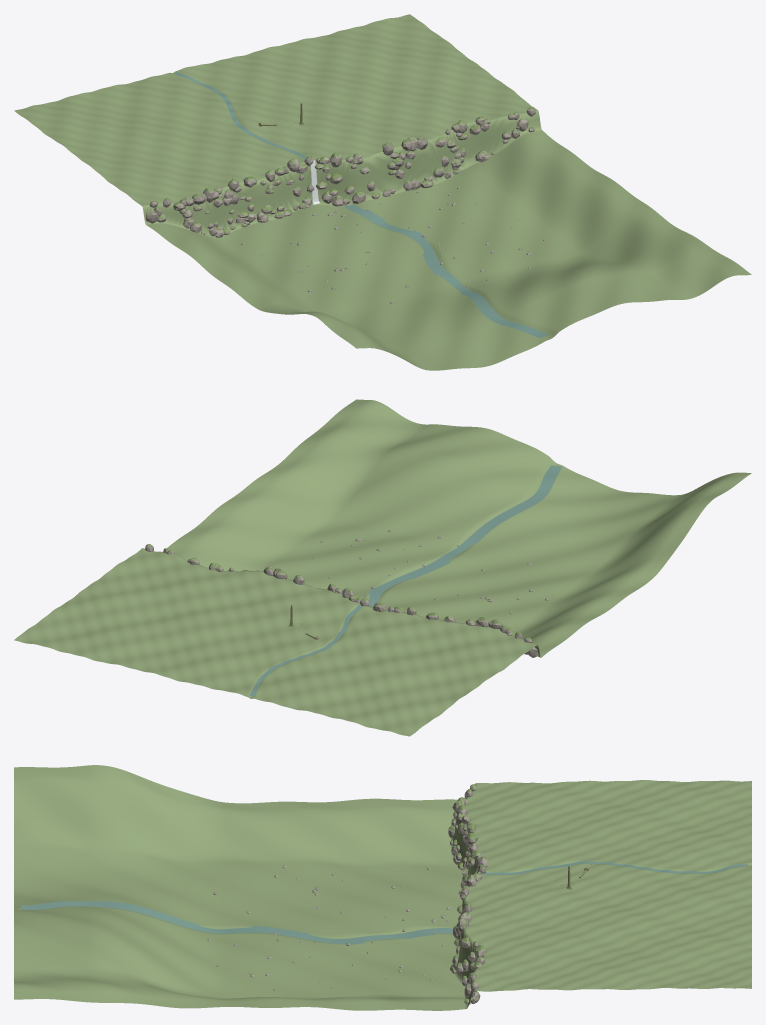
File: world.glb
3 views of the same model, one above another, from view 1: azimuth 30°, elevation 25°; view 2: azimuth 150°, elevation 25°; view 3: azimuth 270°, elevation 25° (orthographic). The views are drawn at different scales.
Visible parts, largest first — view 1: terrain, mossrock, river_water; view 2: terrain, river_water, mossrock; view 3: terrain, mossrock, river_water.
Boxes of the visible parts, x1,y1,x2,y2 form: terrain: (14,14,751,370); mossrock: (146,106,545,303); river_water: (174,72,548,337); terrain: (14,399,751,736); river_water: (249,465,562,696); mossrock: (145,530,549,657); terrain: (14,765,751,1010); mossrock: (207,784,487,1004); river_water: (20,861,748,945).
Bounding box in the file's own units: 600 × 98.17 × 900.
